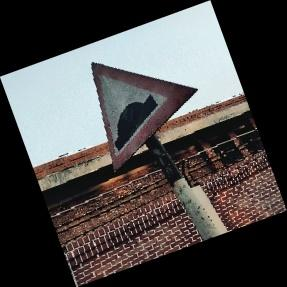Speed-breaker: (91, 61, 197, 173)
